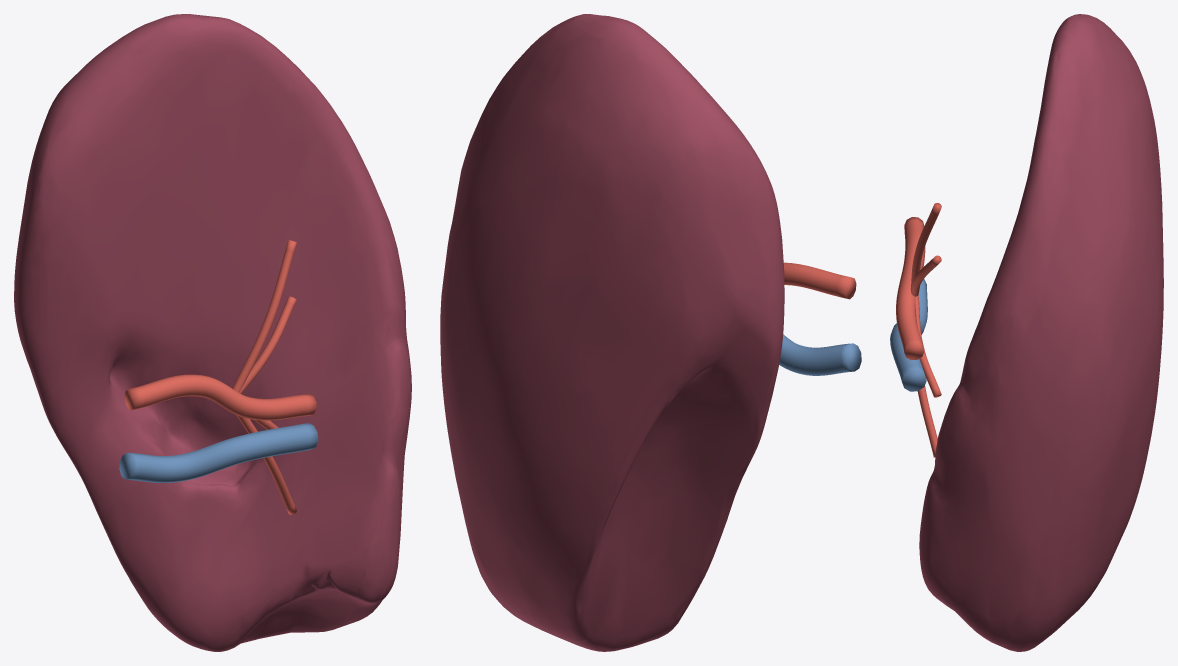
File: spleen.ddad9d16.glb
3 views of the same model, side by side, from view 1: azimuth 30°, elevation 25°; view 2: azimuth 150°, elevation 25°; view 3: azimuth 270°, elevation 25° (orthographic). The views are drawn at different scales.
Visible parts, largest first — view 1: Spleen, Splenic vein, Splenic artery, Hilar arterial branch 4, Hilar arterial branch 3, Hilar arterial branch 1; view 2: Spleen, Splenic vein, Splenic artery; view 3: Spleen, Splenic artery, Splenic vein, Hilar arterial branch 4, Hilar arterial branch 1, Hilar arterial branch 2, Hilar arterial branch 3.
Boxes of the visible parts, x1,y1,x2,y2 form: Spleen: (14,14,411,651); Splenic vein: (119,423,318,482); Splenic artery: (124,374,316,420); Hilar arterial branch 4: (232,240,296,392); Hilar arterial branch 3: (239,296,296,393); Hilar arterial branch 1: (236,415,296,514); Spleen: (440,14,784,651); Splenic vein: (779,334,861,375); Splenic artery: (783,262,856,299); Spleen: (919,14,1163,651); Splenic artery: (896,217,925,359); Splenic vein: (890,279,927,391); Hilar arterial branch 4: (910,203,941,290); Hilar arterial branch 1: (917,386,937,457); Hilar arterial branch 2: (915,295,941,397); Hilar arterial branch 3: (911,255,941,296).
Size of the model in its own units: 2.19 by 3.8 by 1.63.
